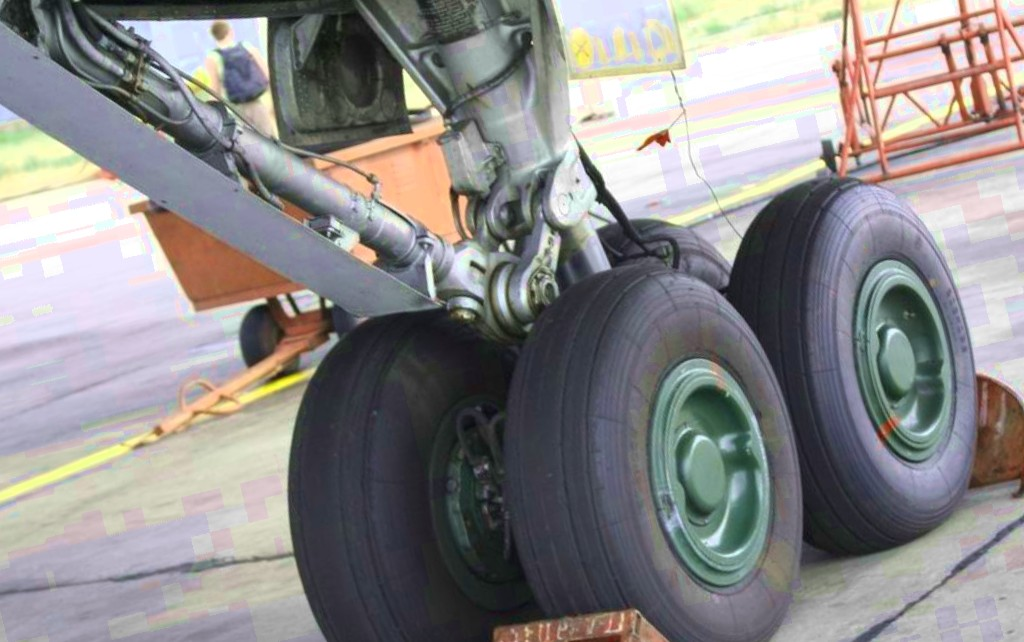chock: (454, 575, 716, 642), (944, 356, 1024, 509)
wheel: (456, 234, 851, 642), (719, 150, 1017, 567), (243, 290, 589, 642), (589, 199, 734, 311)
